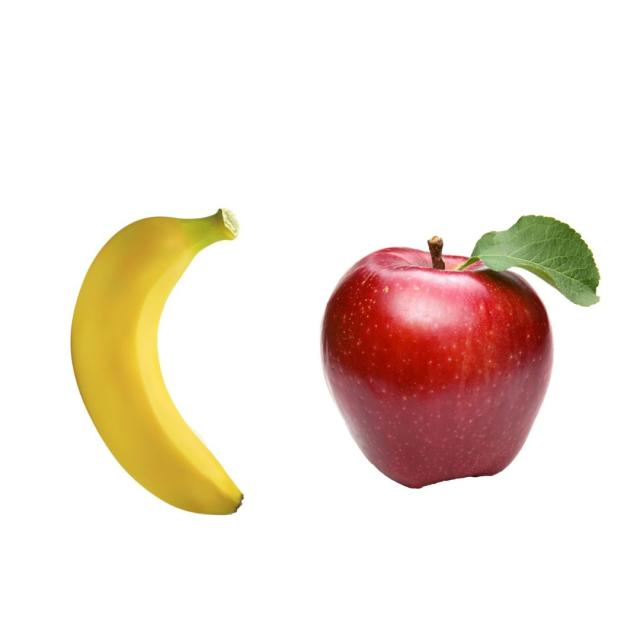Apel: (321, 248, 555, 491)
Pisang: (69, 206, 245, 516)
